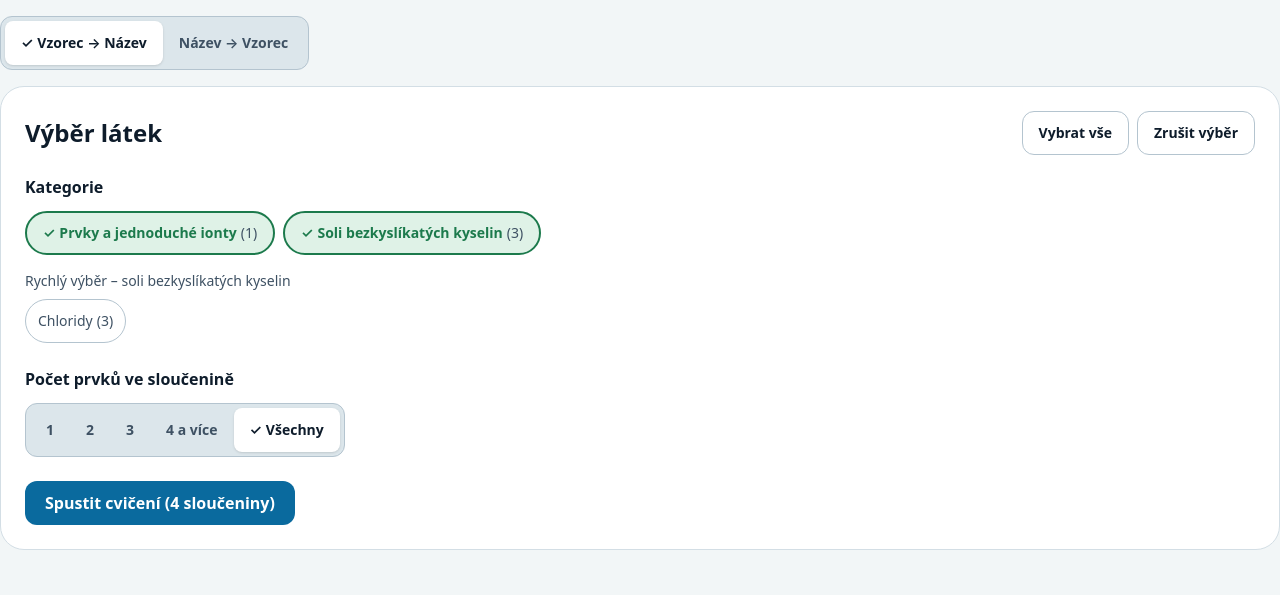
Test: NomenclaturePractice filters › counts the matching compounds per category and on the start button
Expected: the button "Spustit cvičení (4 sloučeniny)" is shown, [25, 481, 295, 525]
Expected: the button "✓ Soli bezkyslíkatých kyselin (3)" is shown, [283, 211, 541, 255]
Click the radio button labelled "2".
click(90, 430)  # box [86, 420, 94, 439]
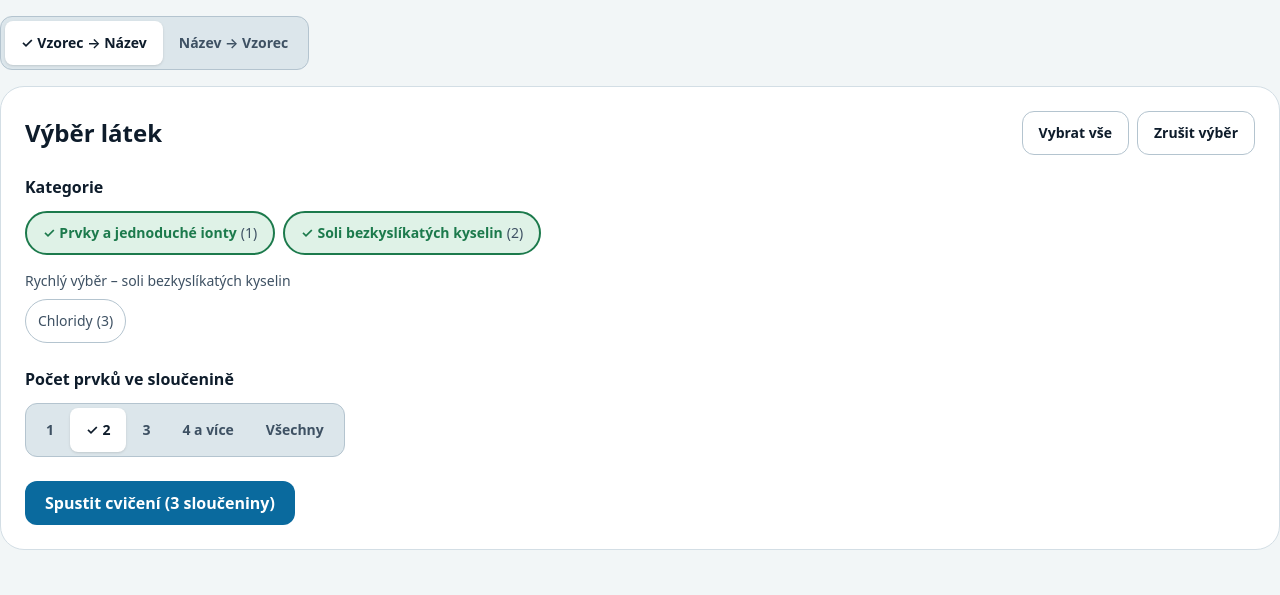
Result: the button "Spustit cvičení (3 sloučeniny)" is shown at [25, 481, 295, 525]
Click the button "✓ Prvky a jednoduché ionty (1)".
click(150, 233)  # box [25, 211, 275, 255]
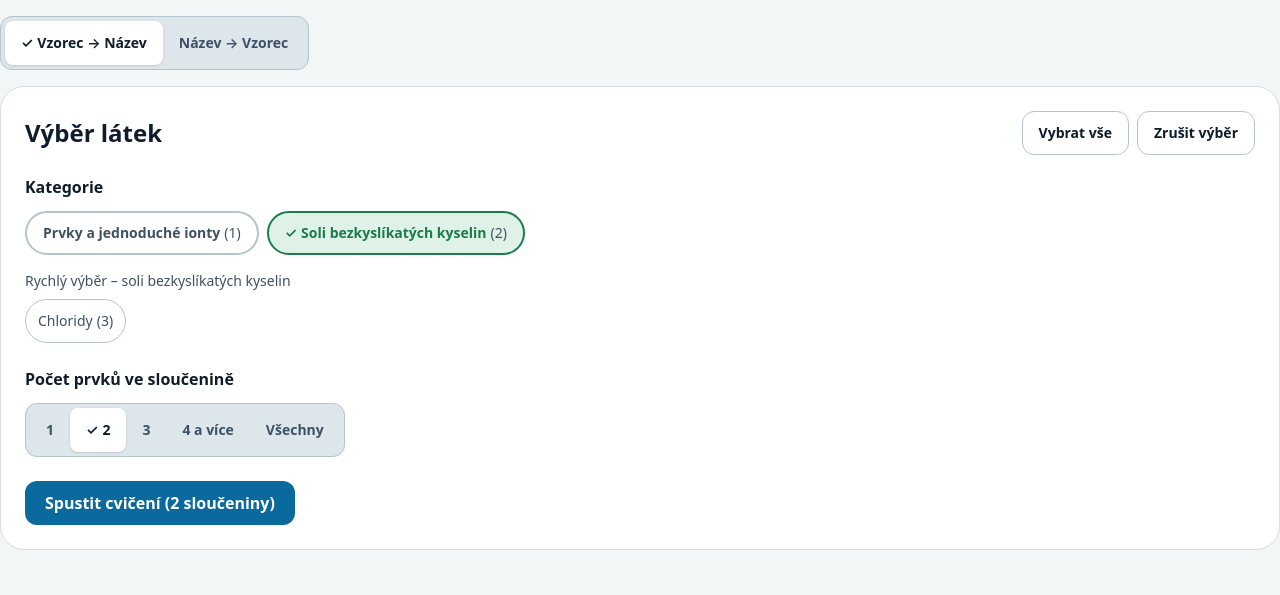
Result: the button "Spustit cvičení (2 sloučeniny)" is shown at [25, 481, 295, 525]
Click the radio button labelled "1".
click(50, 430)  # box [46, 420, 54, 439]
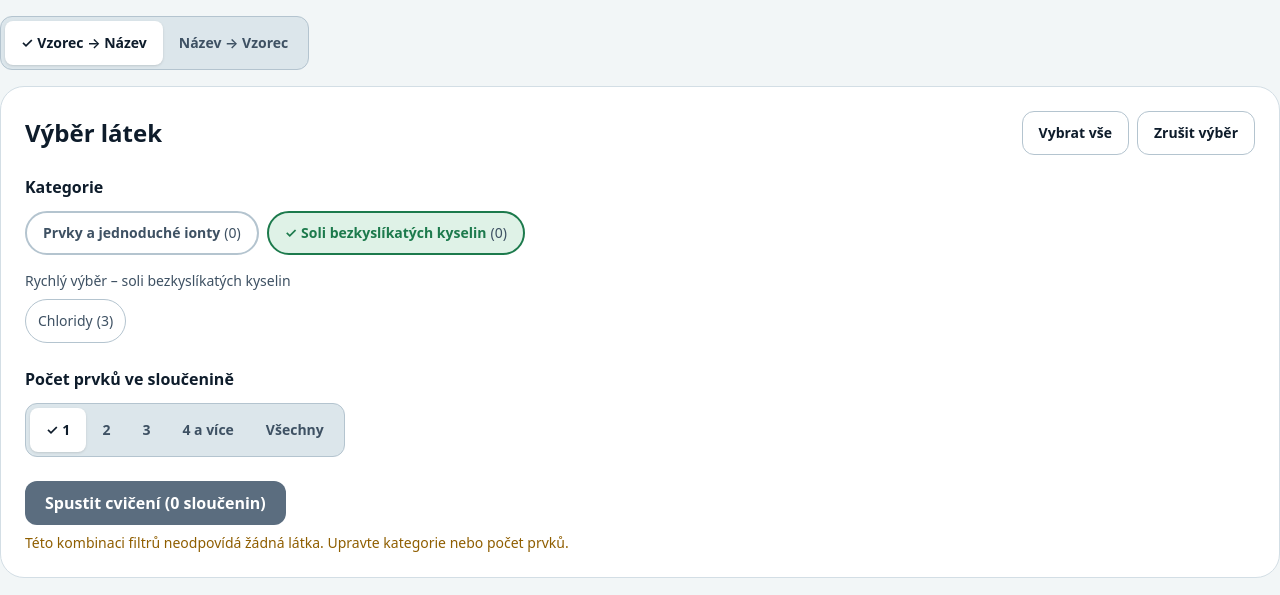
Result: the button "Spustit cvičení (0 sloučenin)" is disabled at [25, 481, 286, 525]
Result: the text "neodpovídá žádná látka" is shown at [25, 533, 569, 552]
